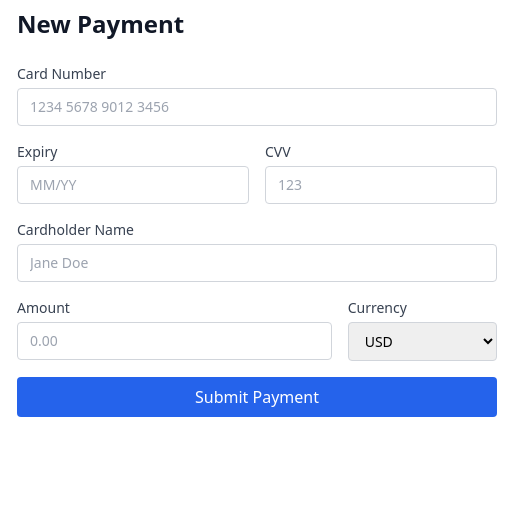
it: shows amount error for negative value
The width and height of the screenshot is (515, 530).
Type "-5" into the number field labelled "Amount" at (174, 341), box 17,322 -> 332,360
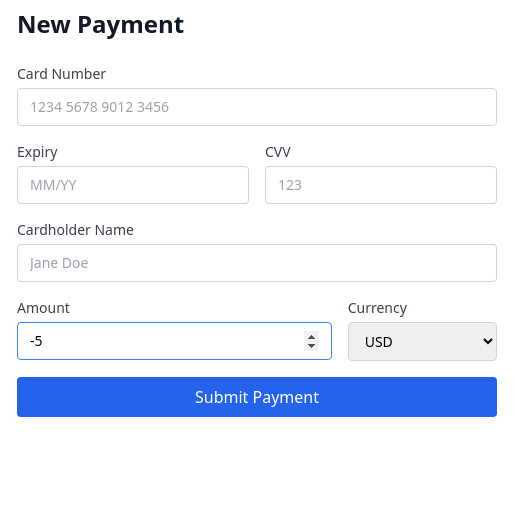
Click the button "Submit Payment" at (257, 397), box 17,377 -> 497,417
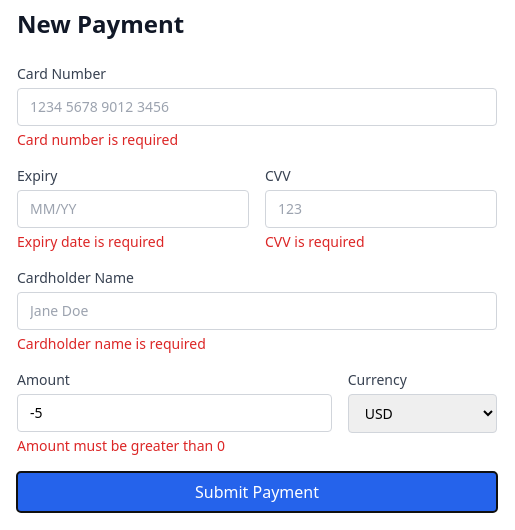
Expected: the text "Amount must be greater than 0" is shown, 17,436 -> 225,455
